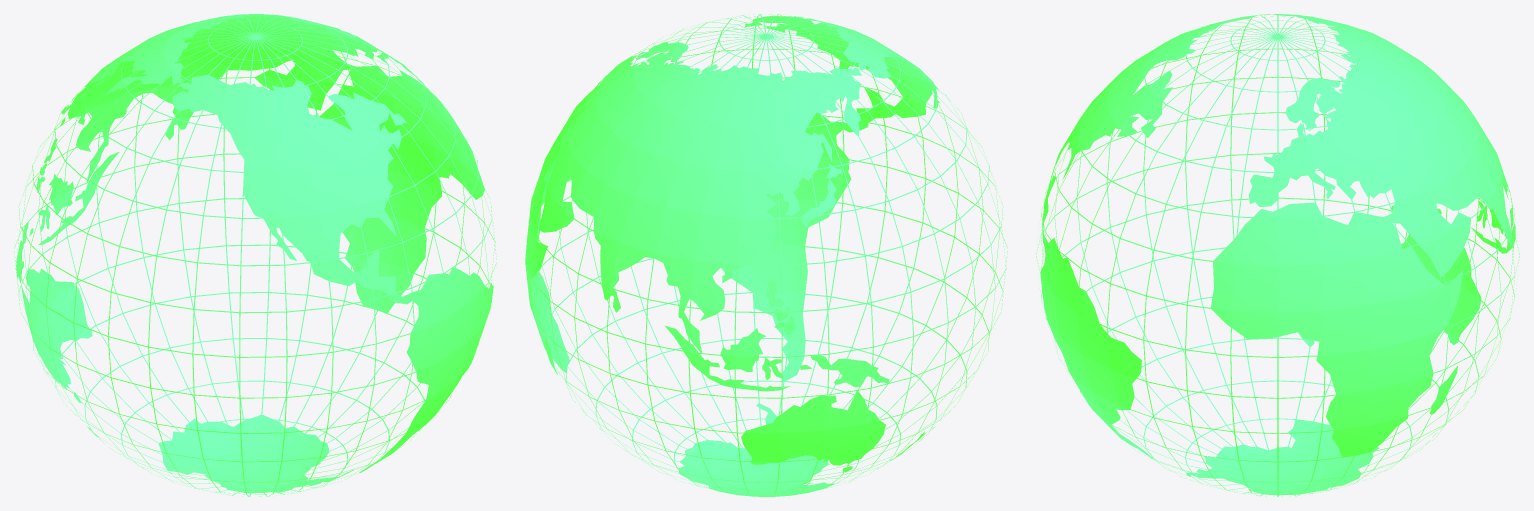
File: EarthHologram.fbx
3 views of the same model, side by side, from view 1: azimuth 30°, elevation 25°; view 2: azimuth 150°, elevation 25°; view 3: azimuth 270°, elevation 25° (orthographic).
Parts seen in each view (by area): view 1: Sphere.002; view 2: Sphere.002; view 3: Sphere.002.
Part boxes in pixels (x1=…): Sphere.002: x1=14, y1=14, x2=496, y2=496; Sphere.002: x1=525, y1=14, x2=1007, y2=496; Sphere.002: x1=1036, y1=14, x2=1519, y2=496.
Size of the model in its own units: 200 by 200 by 200.
